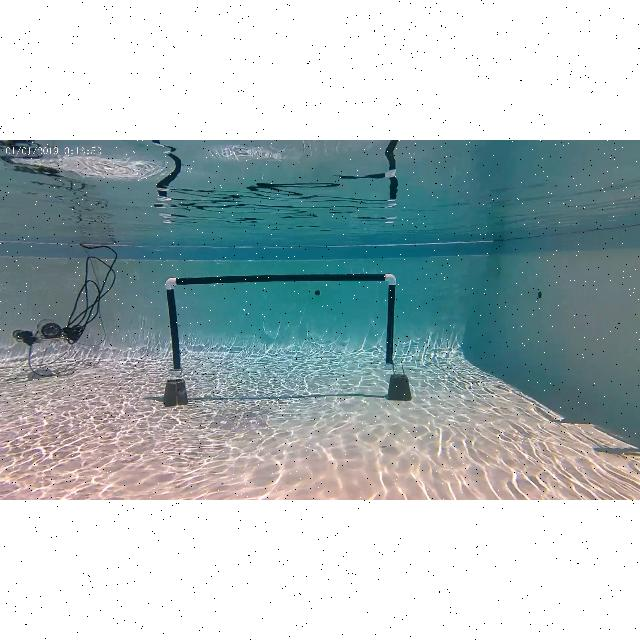prequal gate: (166, 274, 396, 376)
prequal gate leg l: (163, 274, 184, 374)
prequal gate leg r: (379, 273, 405, 375)
